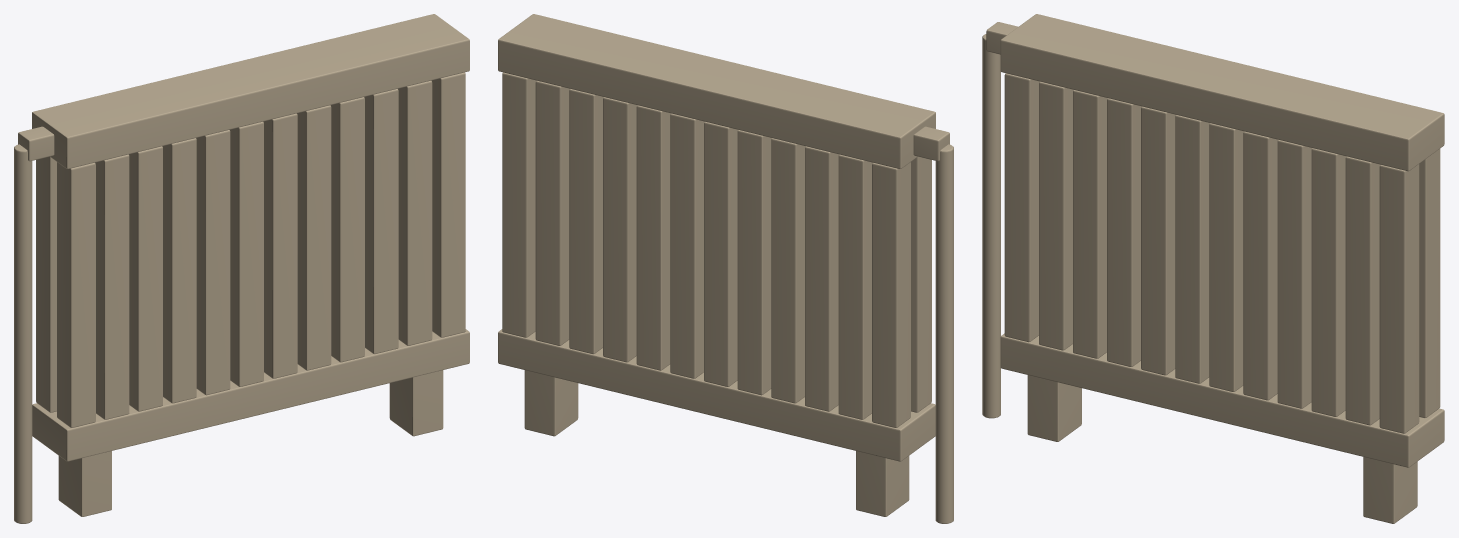
Rendered from radiator.glb.
The picture shows the model from 3 angles, left to right: view 1: azimuth 30°, elevation 25°; view 2: azimuth 150°, elevation 25°; view 3: azimuth 330°, elevation 25°; orthographic projection.
Visible parts, largest first — view 1: radiator; view 2: radiator; view 3: radiator.
Part boxes in pixels (left/top/right/bottom): radiator: left=14, top=14, right=469, bottom=523; radiator: left=498, top=14, right=953, bottom=523; radiator: left=982, top=14, right=1444, bottom=523.
Size of the model in its own units: 0.8455 by 0.72 by 0.12.
